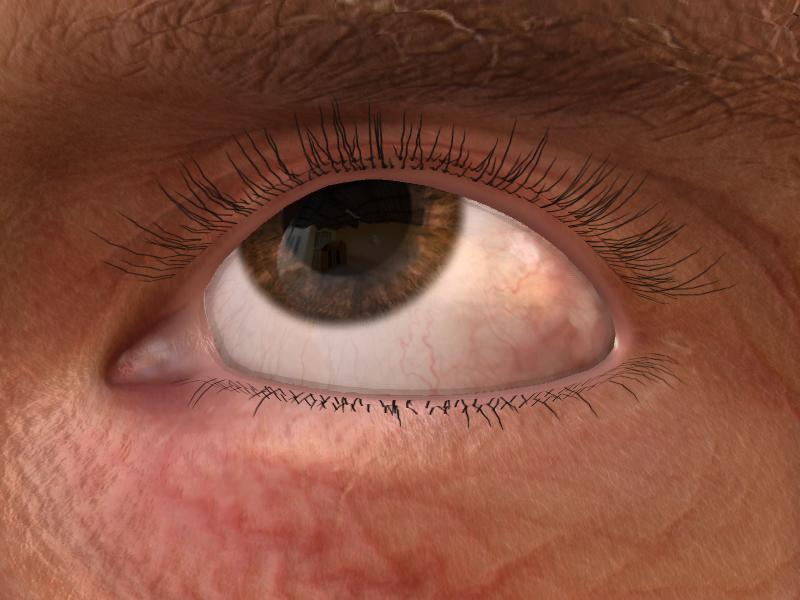eye: (239, 177, 463, 318)
